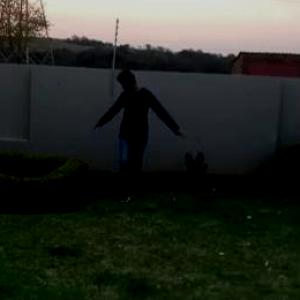land: (83, 67, 188, 212)
